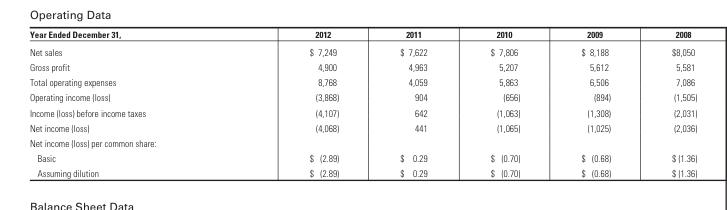table: (28, 28, 696, 178)
table column: (28, 28, 226, 178), (226, 28, 368, 178), (458, 28, 549, 178), (549, 28, 640, 178), (368, 28, 458, 178), (640, 28, 696, 178)
table column header: (28, 28, 696, 42)
table projected row header: (28, 135, 696, 150)
table row: (28, 42, 696, 59), (28, 119, 696, 135), (28, 59, 696, 74), (28, 74, 696, 89), (28, 89, 696, 104), (28, 104, 696, 119), (28, 135, 696, 150), (28, 150, 696, 165), (28, 28, 696, 42), (28, 165, 696, 178)
